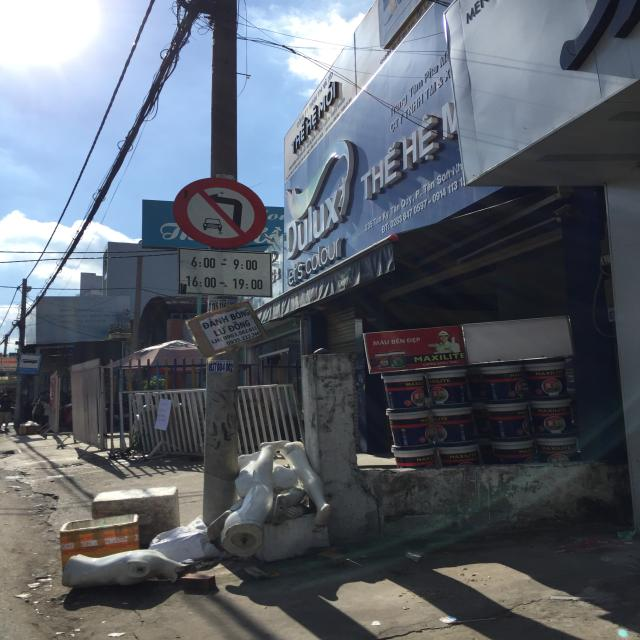bien_cam: (165, 174, 281, 248)
